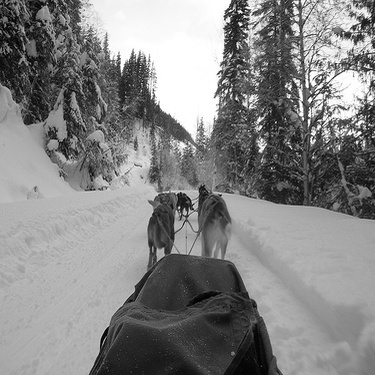dog: (194, 194, 235, 263), (141, 196, 178, 269), (156, 190, 179, 219), (174, 186, 195, 217), (196, 183, 215, 215)
